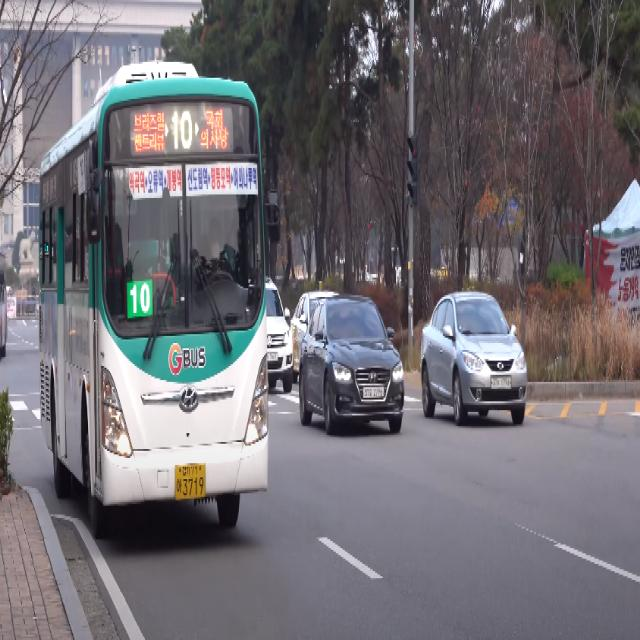bus-number: (170, 108, 194, 153)
